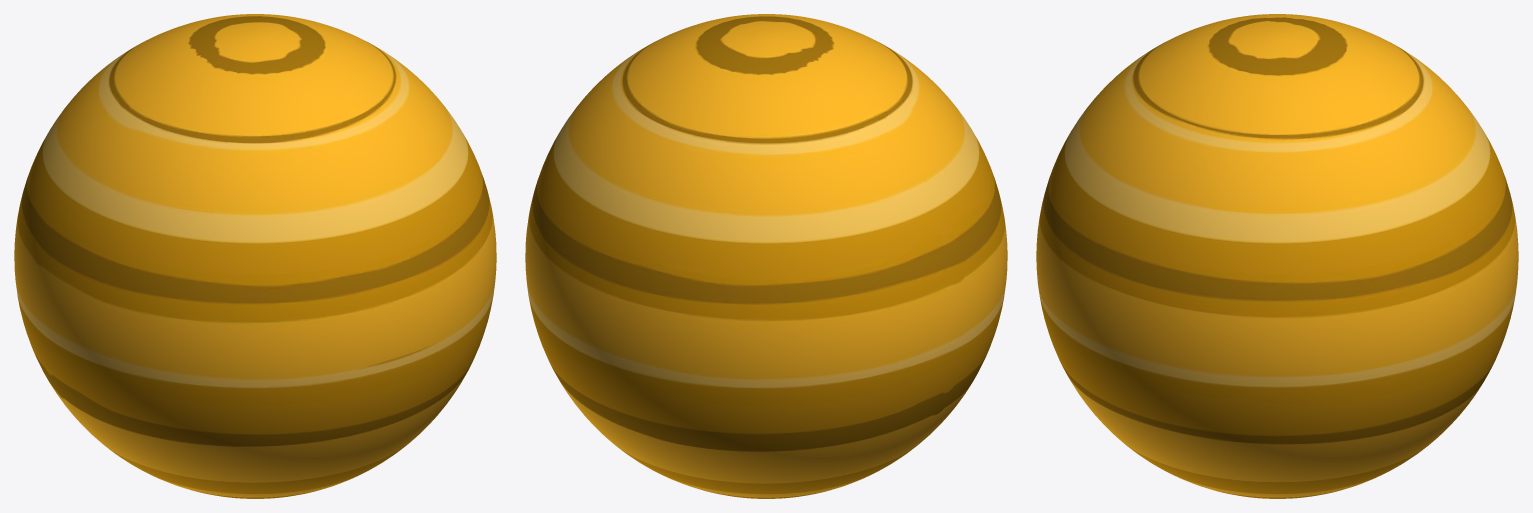
File: yellow_pic.glb
3 views of the same model, side by side, from view 1: azimuth 30°, elevation 25°; view 2: azimuth 150°, elevation 25°; view 3: azimuth 270°, elevation 25° (orthographic).
Parts seen in each view (by area): view 1: yellow pic; view 2: yellow pic; view 3: yellow pic.
Boxes of the visible parts, <box> form: yellow pic: <box>14,14,496,498</box>; yellow pic: <box>525,14,1007,498</box>; yellow pic: <box>1036,14,1518,498</box>.
Bounding box in the file's own units: 0.9852 × 0.9965 × 0.9852.
Materials: 1 (1 with a texture image).
